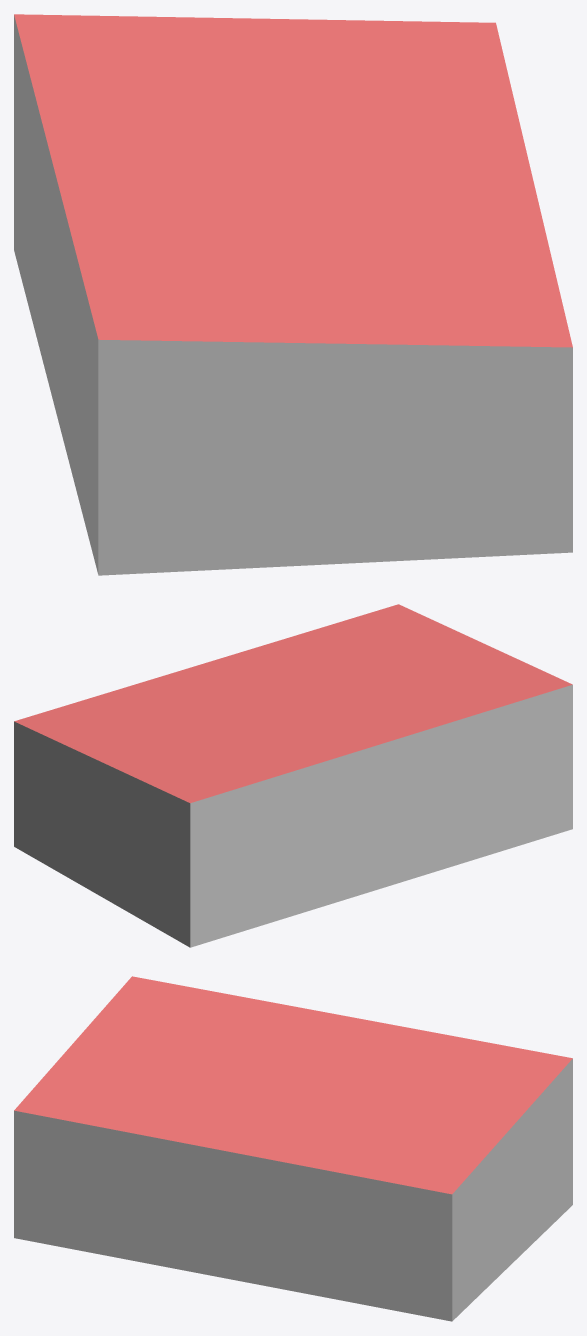
The model's file is DEBY_LOD2_4908049.gltf.
3 views of the same model, one above another, from view 1: azimuth 30°, elevation 25°; view 2: azimuth 150°, elevation 25°; view 3: azimuth 270°, elevation 25° (orthographic). The views are drawn at different scales.
Visible parts, largest first — view 1: Z_UP; view 2: Z_UP; view 3: Z_UP.
Part boxes in pixels (x1,y1,x2,y2): Z_UP: [14, 14, 572, 575]; Z_UP: [14, 604, 572, 947]; Z_UP: [14, 976, 572, 1321].
Size of the model in its own units: 8.68 by 2.99 by 10.32.
